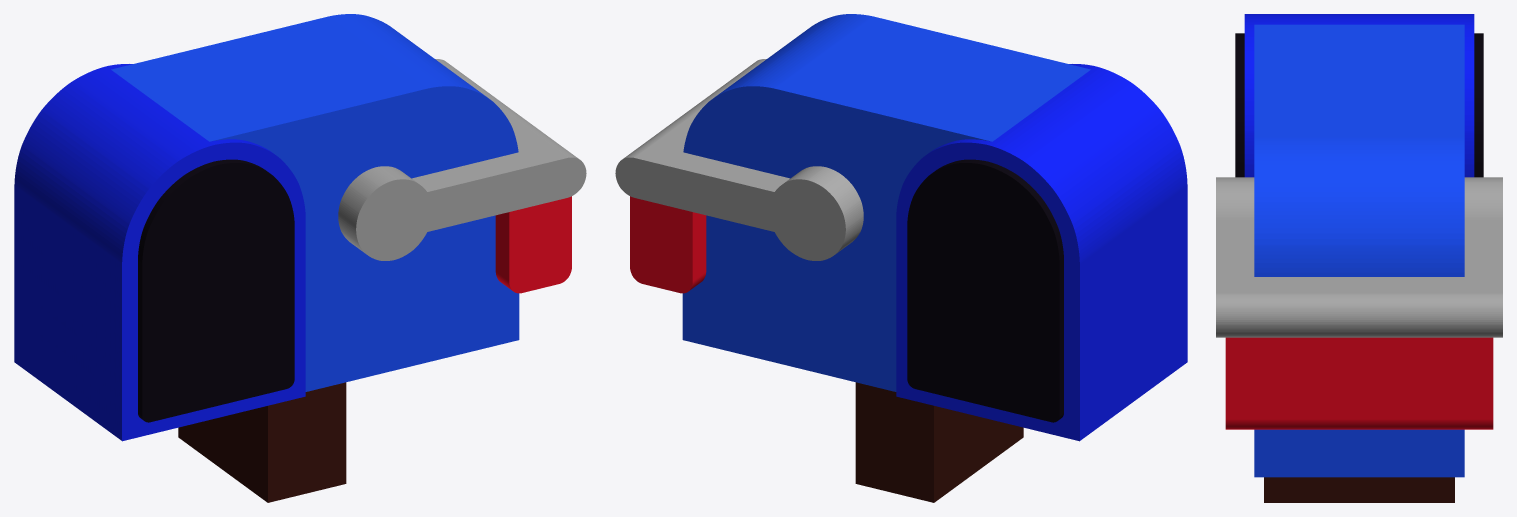
3 views of the same model, side by side, from view 1: azimuth 30°, elevation 25°; view 2: azimuth 150°, elevation 25°; view 3: azimuth 270°, elevation 25° (orthographic). The views are drawn at different scales.
Parts seen in each view (by area): view 1: U+1F4ED_layer01_obj00, U+1F4ED_layer02_obj00, U+1F4ED_layer03_obj00, U+1F4ED_layer05_obj00, U+1F4ED_layer00_obj00, U+1F4ED_layer04_obj00; view 2: U+1F4ED_layer01_obj00, U+1F4ED_layer02_obj00, U+1F4ED_layer03_obj00, U+1F4ED_layer05_obj00, U+1F4ED_layer00_obj00, U+1F4ED_layer04_obj00; view 3: U+1F4ED_layer01_obj00, U+1F4ED_layer05_obj00, U+1F4ED_layer04_obj00, U+1F4ED_layer02_obj00, U+1F4ED_layer00_obj00, U+1F4ED_layer03_obj00.
Boxes of the visible parts, x1=… form: U+1F4ED_layer01_obj00: x1=111, y1=14, x2=519, y2=391; U+1F4ED_layer02_obj00: x1=14, y1=64, x2=305, y2=441; U+1F4ED_layer03_obj00: x1=138, y1=159, x2=294, y2=422; U+1F4ED_layer05_obj00: x1=338, y1=59, x2=586, y2=260; U+1F4ED_layer00_obj00: x1=178, y1=382, x2=346, y2=502; U+1F4ED_layer04_obj00: x1=495, y1=196, x2=571, y2=293; U+1F4ED_layer01_obj00: x1=682, y1=14, x2=1090, y2=391; U+1F4ED_layer02_obj00: x1=896, y1=64, x2=1187, y2=441; U+1F4ED_layer03_obj00: x1=907, y1=159, x2=1063, y2=422; U+1F4ED_layer05_obj00: x1=615, y1=59, x2=863, y2=260; U+1F4ED_layer00_obj00: x1=855, y1=382, x2=1023, y2=502; U+1F4ED_layer04_obj00: x1=630, y1=196, x2=706, y2=293; U+1F4ED_layer01_obj00: x1=1254, y1=24, x2=1464, y2=477; U+1F4ED_layer05_obj00: x1=1216, y1=177, x2=1502, y2=337; U+1F4ED_layer04_obj00: x1=1225, y1=337, x2=1493, y2=429; U+1F4ED_layer02_obj00: x1=1244, y1=14, x2=1474, y2=177; U+1F4ED_layer00_obj00: x1=1264, y1=477, x2=1454, y2=502; U+1F4ED_layer03_obj00: x1=1235, y1=33, x2=1483, y2=177.
Size of the model in its own units: 0.5805 by 0.4673 by 0.3.
